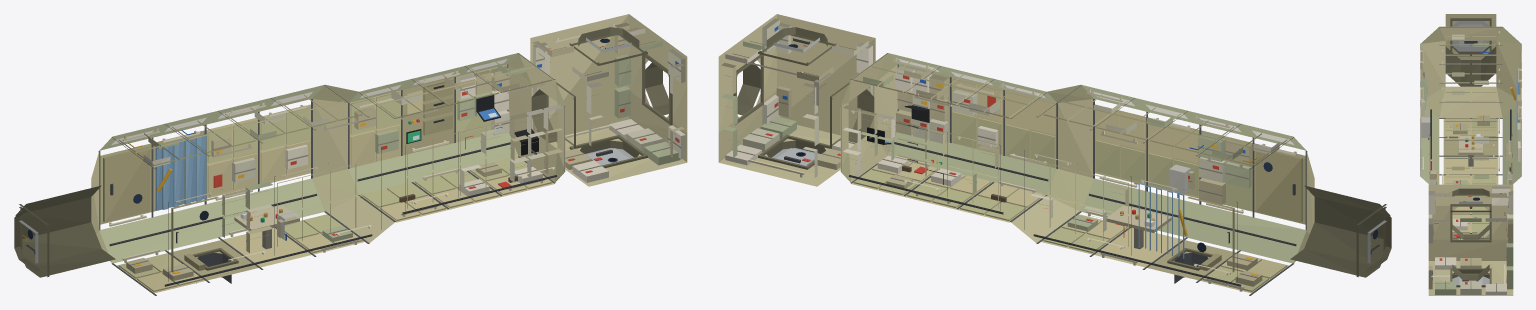
File: m-zvezda.glb
The picture shows the model from 3 angles, left to right: view 1: azimuth 30°, elevation 25°; view 2: azimuth 150°, elevation 25°; view 3: azimuth 270°, elevation 25°; orthographic projection. The views are drawn at different scales.
Visible parts, largest first — view 1: zvezda; view 2: zvezda; view 3: zvezda.
Boxes of the visible parts, x1=… form: zvezda: x1=14, y1=14, x2=687, y2=295; zvezda: x1=718, y1=14, x2=1391, y2=295; zvezda: x1=1420, y1=14, x2=1521, y2=295.
Size of the model in its own units: 12.82 by 2.85 by 2.4.
